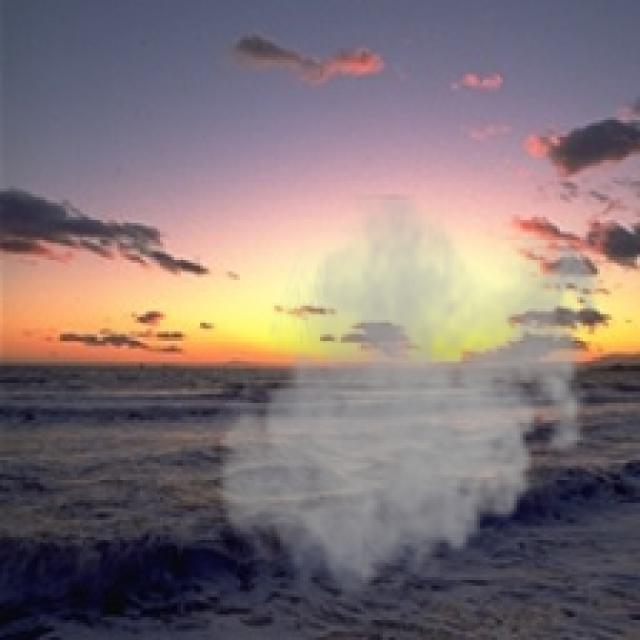smoke: (208, 194, 612, 609)
